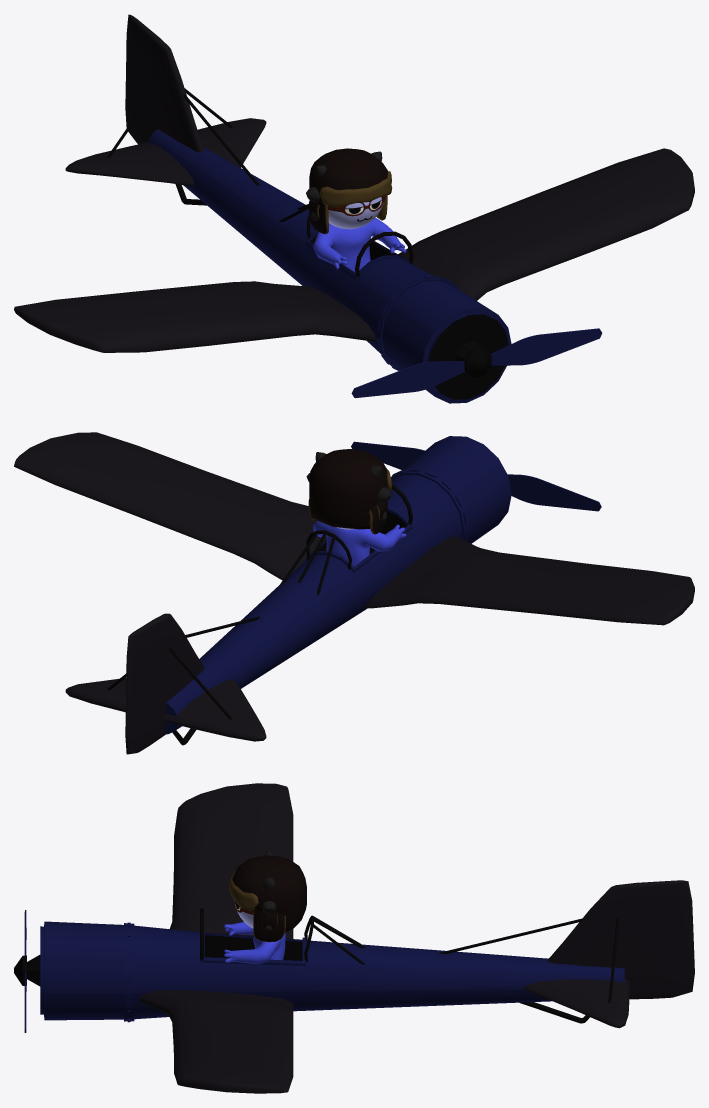
File: AAA.obj
3 renders of one model, top to bottom at view 1: azimuth 30°, elevation 25°; view 2: azimuth 150°, elevation 25°; view 3: azimuth 270°, elevation 25°, orthographic. The views are drawn at different scales.
Visible parts, largest first — view 1: Cube.005, Cylinder, Cube.006, Cube.002, prop, Cube.003, BODY.001, HEAD.001, Cube, Cube.001; view 2: Cube.005, Cylinder, Cube.006, Cube.003, Cube.002, prop, BODY.001; view 3: Cylinder, Cube.005, Cube.006, Cube.003, Cube.002, BODY.001, Cube.001, HEAD.001, Cylinder.003, Cube.
Boxes of the visible parts, x1,y1,x2,y2 form: Cube.005: (14, 148, 694, 352); Cylinder: (147, 129, 511, 403); Cube.006: (125, 14, 203, 152); Cube.002: (65, 118, 266, 186); prop: (351, 328, 602, 398); Cube.003: (309, 148, 388, 204); BODY.001: (313, 217, 406, 272); HEAD.001: (306, 151, 383, 229); Cube: (319, 171, 392, 207); Cube.001: (308, 195, 387, 234); Cube.005: (14, 432, 694, 625); Cylinder: (165, 436, 511, 734); Cube.006: (125, 613, 204, 754); Cube.003: (309, 449, 388, 529); Cube.002: (65, 678, 266, 741); prop: (351, 441, 601, 511); BODY.001: (313, 520, 406, 566); Cylinder: (14, 921, 624, 1022); Cube.005: (140, 783, 293, 1093); Cube.006: (547, 880, 694, 999); Cube.003: (232, 855, 306, 932); Cube.002: (523, 958, 629, 1028); BODY.001: (224, 922, 285, 964); Cube.001: (253, 910, 285, 942); HEAD.001: (234, 851, 276, 930); Cylinder.003: (439, 918, 582, 953); Cube: (229, 871, 258, 910).
Bounding box in the file's own units: 18.71 × 4.62 × 17.69.
9 materials, 1 textured.
